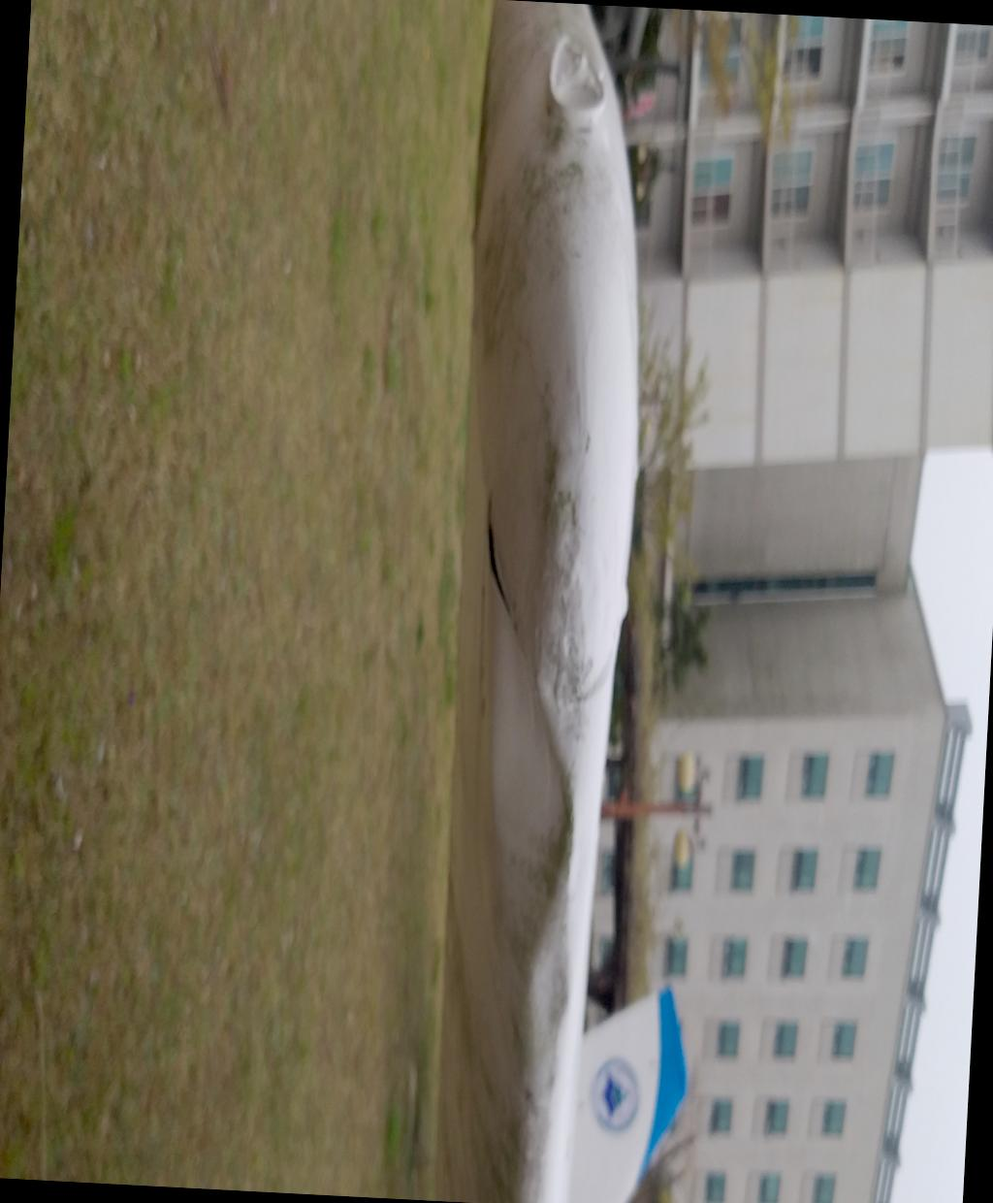dent: (684, 991, 849, 1203), (852, 989, 907, 1088)
